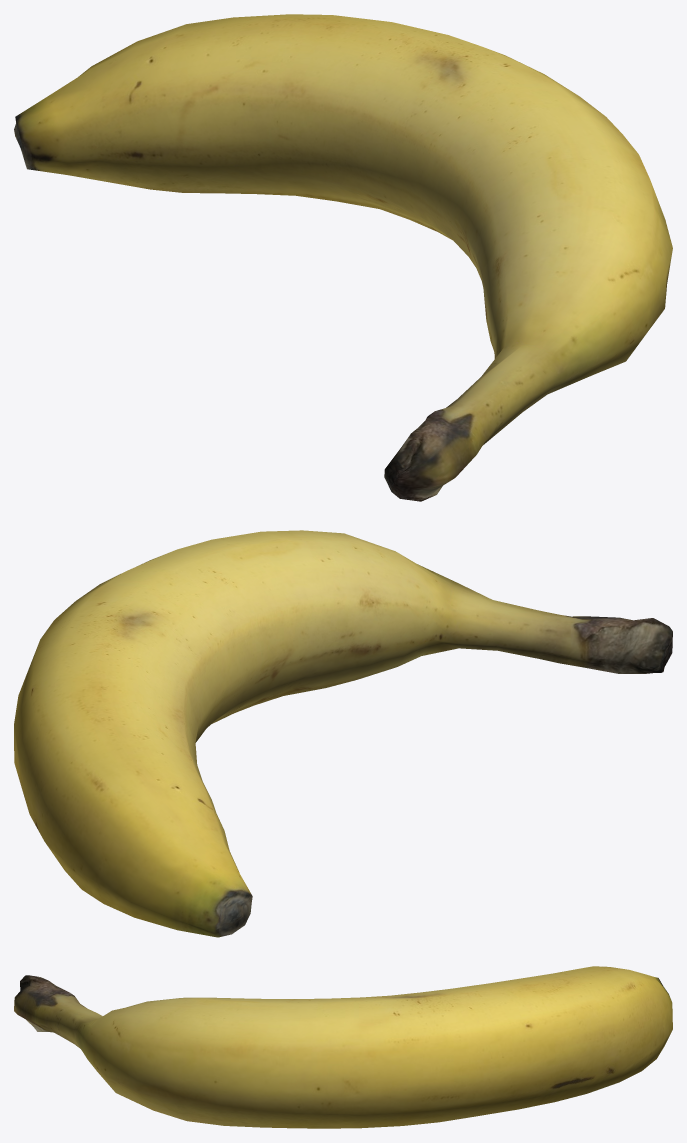
The model's file is 静物_水果_banana_20260324195547_std.glb.
3 views of the same model, one above another, from view 1: azimuth 30°, elevation 25°; view 2: azimuth 150°, elevation 25°; view 3: azimuth 270°, elevation 25° (orthographic). The views are drawn at different scales.
Visible parts, largest first — view 1: banana_LP; view 2: banana_LP; view 3: banana_LP.
Boxes of the visible parts, bbox=[...] form: banana_LP: bbox=[14, 14, 672, 501]; banana_LP: bbox=[14, 530, 672, 937]; banana_LP: bbox=[14, 966, 672, 1128].
Size of the model in its own units: 0.2446 by 0.1 by 0.4436.
1 material, 1 textured.
